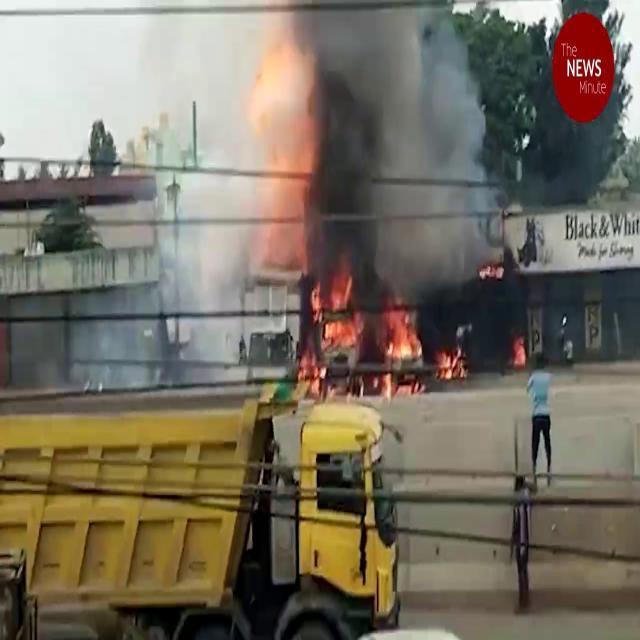Fire: (298, 270, 362, 396), (378, 304, 424, 380)
Smoke: (184, 3, 508, 367)
